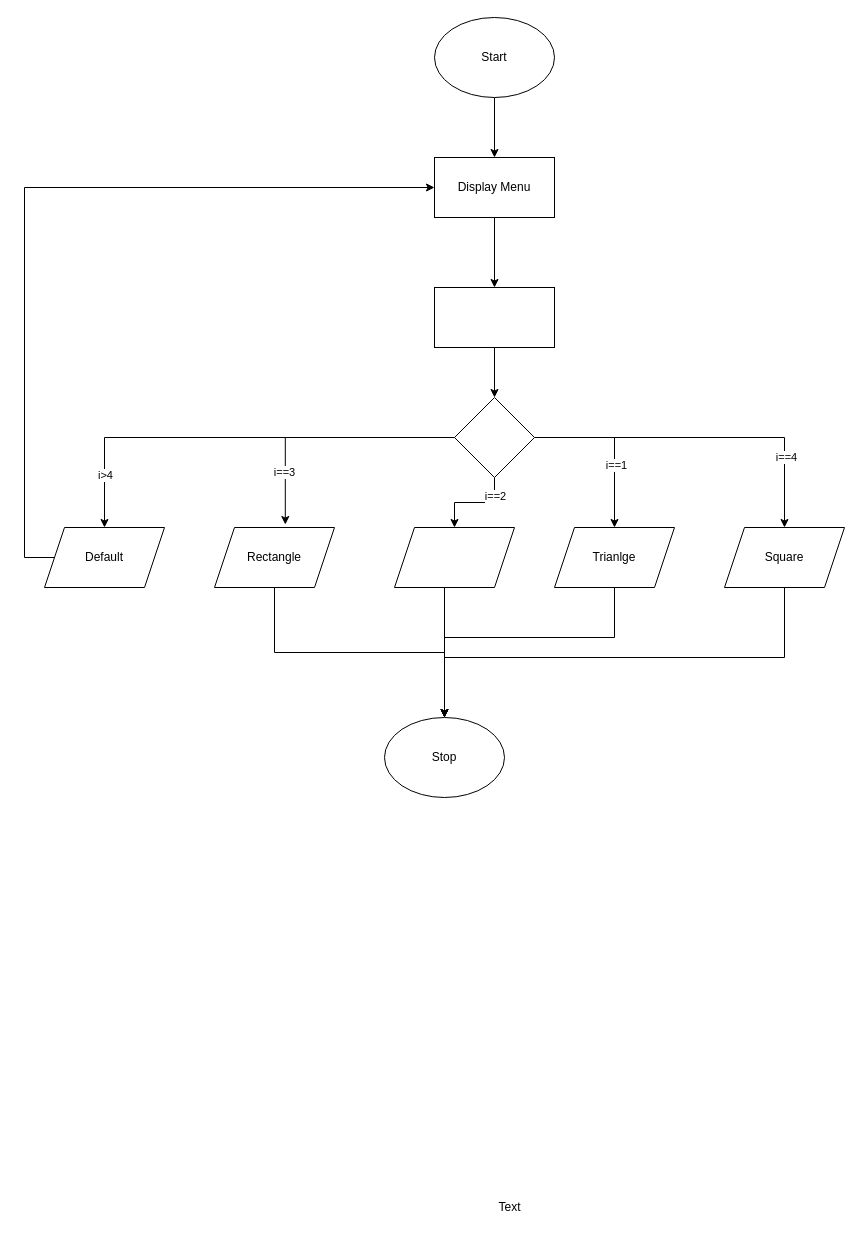
The diagram is 862 pixels wide and 1240 high, and some of its shapes have lost their labels. Here are the shapes that lost their labels. From the top down, the box of each, then its label:
(434, 286, 554, 348): Selecting Choice of Pattern
(454, 396, 534, 478): if i ?
(394, 526, 514, 588): Inverted Triangle
